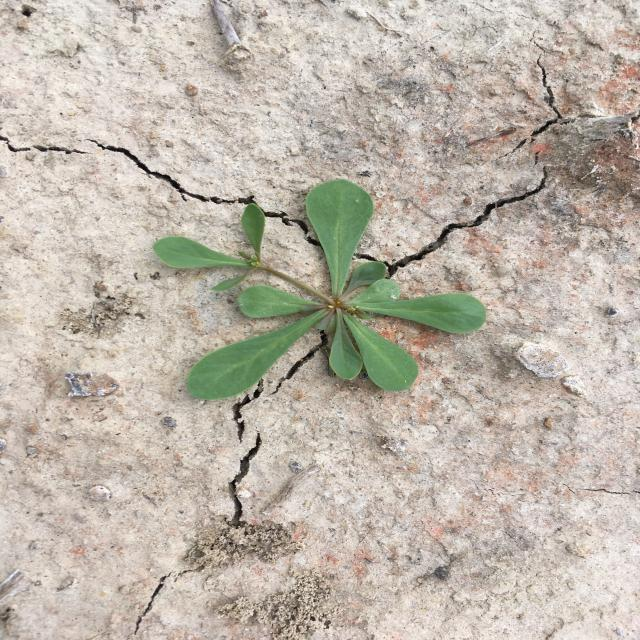Carpetweed: (153, 179, 486, 400)
